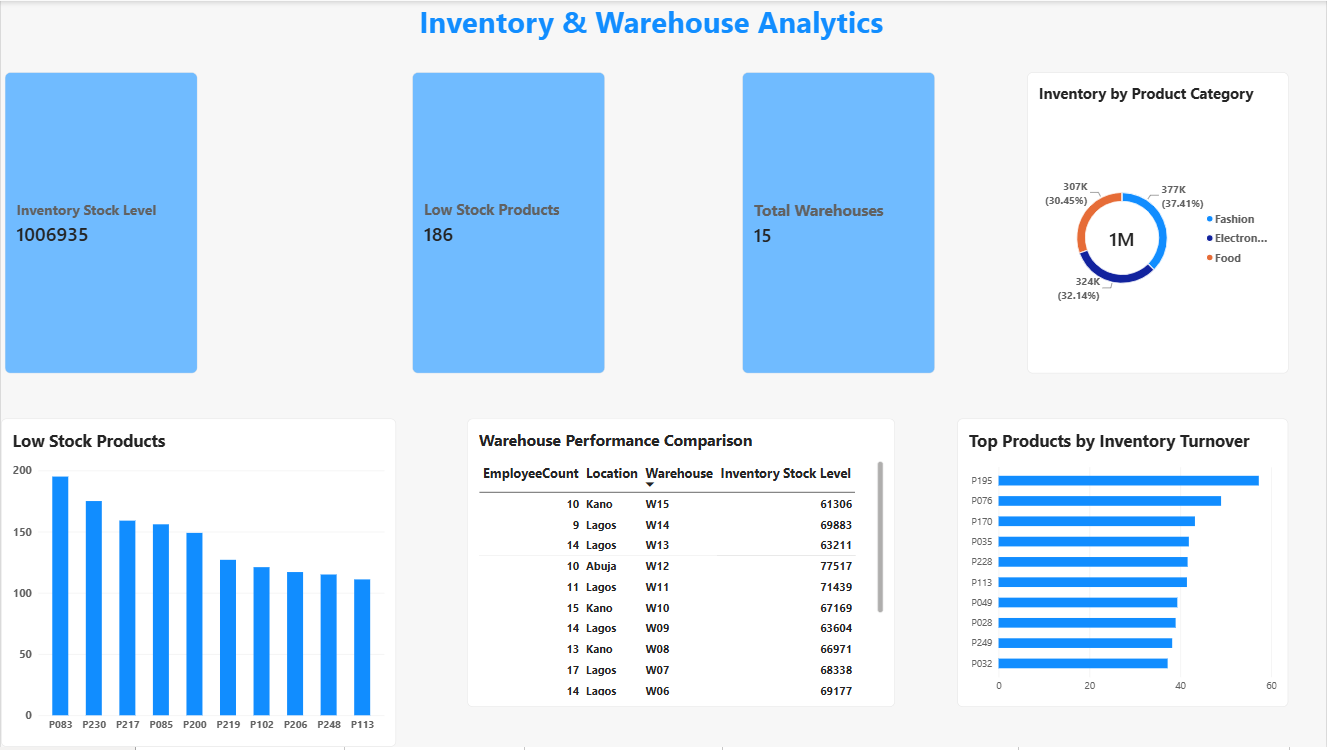

The page's visual inventory and layout, read from the dashboard file:
{"tool":"powerbi","page":{"name":"Inventory & Warehouse Analytics","canvas":[1920,1080],"ordinal":3},"visuals":[{"type":"cardVisual","fields":{"Data":["SwiftLog_Inventory.Inventory Stock Level"]},"box":[6.2,102.9,279.9,436.4],"z":0},{"type":"cardVisual","fields":{"Data":["SwiftLog_Warehouses.Total Warehouses"]},"box":[1072.4,102.9,279.9,436.4],"z":1},{"type":"cardVisual","fields":{"Data":["SwiftLog_Inventory.Low Stock Products"]},"box":[594.9,102.9,279.9,436.4],"z":2},{"type":"columnChart","title":"Low Stock Products","fields":{"Category":["SwiftLog_Inventory.ProductID"],"Y":["SwiftLog_Inventory.Inventory Stock Level"]},"box":[0,605.1,572.2,475.5],"z":3},{"type":"tableEx","title":"Warehouse Performance Comparison","fields":{"Values":["Sum(SwiftLog_Warehouses.EmployeeCount)","SwiftLog_Warehouses.Location","SwiftLog_Warehouses.WarehouseID","SwiftLog_Inventory.Inventory Stock Level"]},"box":[675.1,605.1,619.6,417.8],"z":4},{"type":"clusteredBarChart","title":"Top Products by Inventory Turnover","fields":{"Category":["SwiftLog_Inventory.ProductID"],"Y":["SwiftLog_Inventory.Inventory Turnover"]},"box":[1385.3,605.1,479.6,417.8],"z":5},{"type":"donutChart","title":"Inventory by Product Category","fields":{"Category":["SwiftLog_Products.Category"],"Y":["SwiftLog_Inventory.Inventory Stock Level"]},"box":[1486.1,102.9,378.7,436.4],"z":6},{"type":"textbox","box":[286.1,0,1311.2,102.9],"z":7}]}

Visuals, with their boxes in screenshot pixels (x1, y1, x2, y2), scaled from the page's 1920x1080 canvas onto the 1327x750 screenshot:
cardVisual - SwiftLog_Inventory.Inventory Stock Level: [4,71,198,375]
cardVisual - SwiftLog_Warehouses.Total Warehouses: [741,71,935,375]
cardVisual - SwiftLog_Inventory.Low Stock Products: [411,71,605,375]
"Low Stock Products" columnChart: [0,420,395,749]
"Warehouse Performance Comparison" tableEx: [467,420,895,710]
"Top Products by Inventory Turnover" clusteredBarChart: [957,420,1289,710]
"Inventory by Product Category" donutChart: [1027,71,1289,375]
textbox: [198,0,1104,71]
